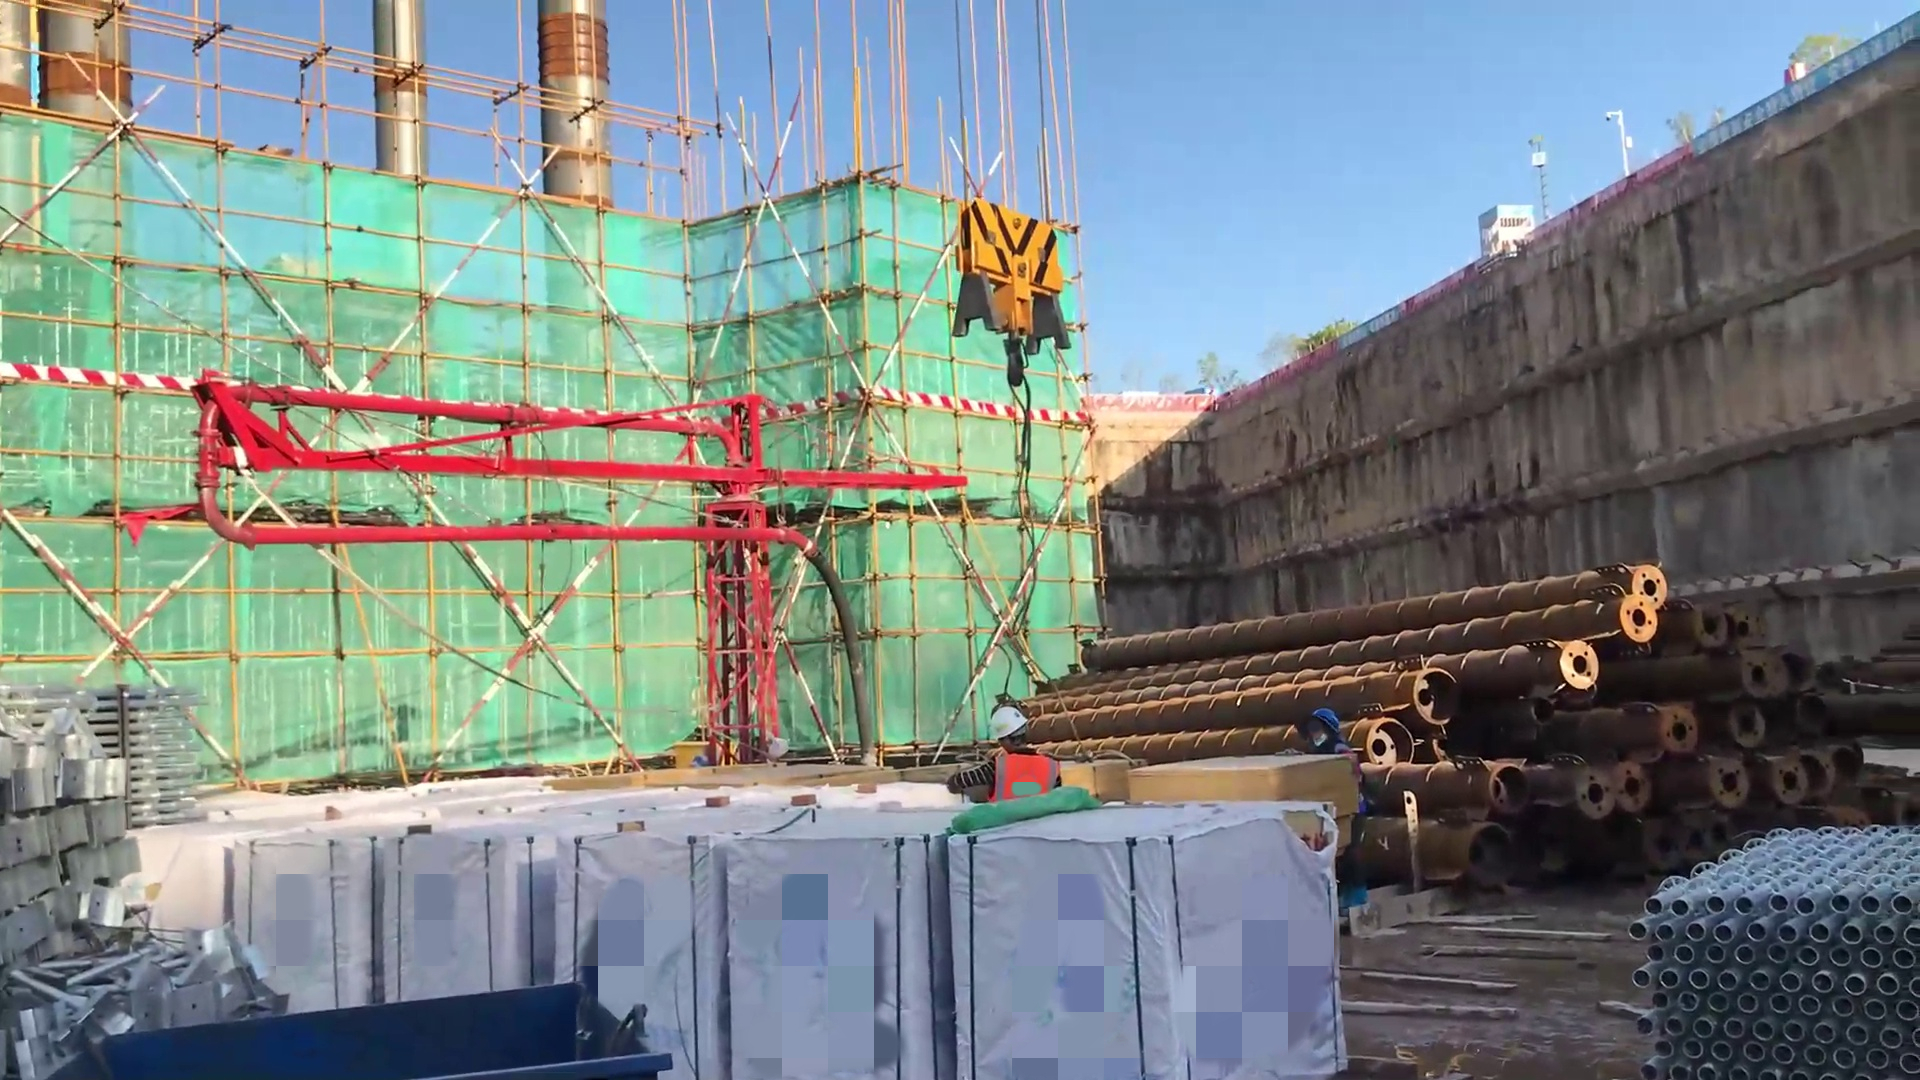board: (1115, 752, 1358, 812)
ebox: (665, 738, 723, 781)
helmet: (985, 702, 1037, 755), (1299, 710, 1352, 747)
hook: (951, 192, 1095, 388)
hopper: (46, 959, 654, 1080)
person: (1275, 702, 1375, 949), (943, 706, 1070, 817)
scaffold: (1625, 774, 1916, 1080), (75, 680, 247, 845)
slogan: (1665, 1, 1918, 152), (1331, 298, 1425, 363)
vest: (973, 750, 1063, 816)
